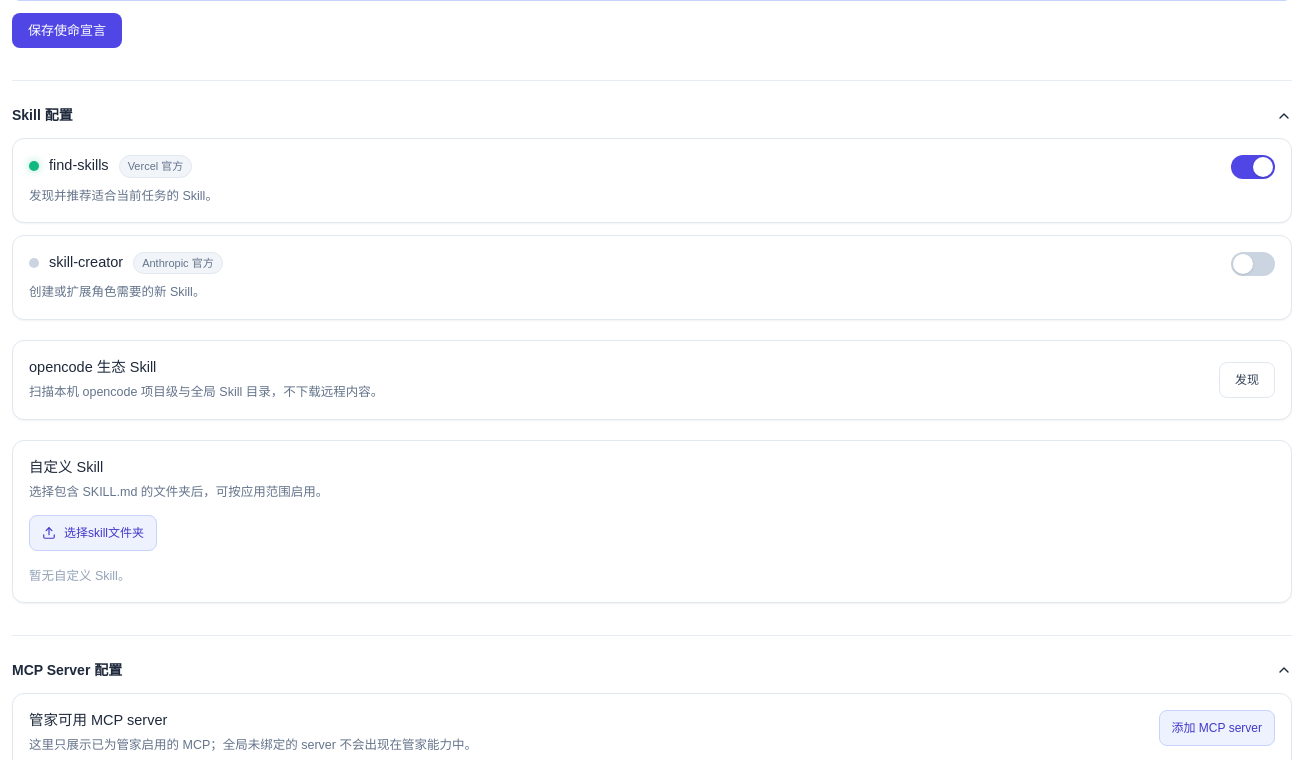
Test: ButlerSettingsContent › 发现 opencode Skill 失败时展示安全的后端校验提示
(page scrolled)
Click the button with aria-label "发现 opencode Skill" at (1247, 380), box top-left (1219, 362), bottom-right (1275, 398)
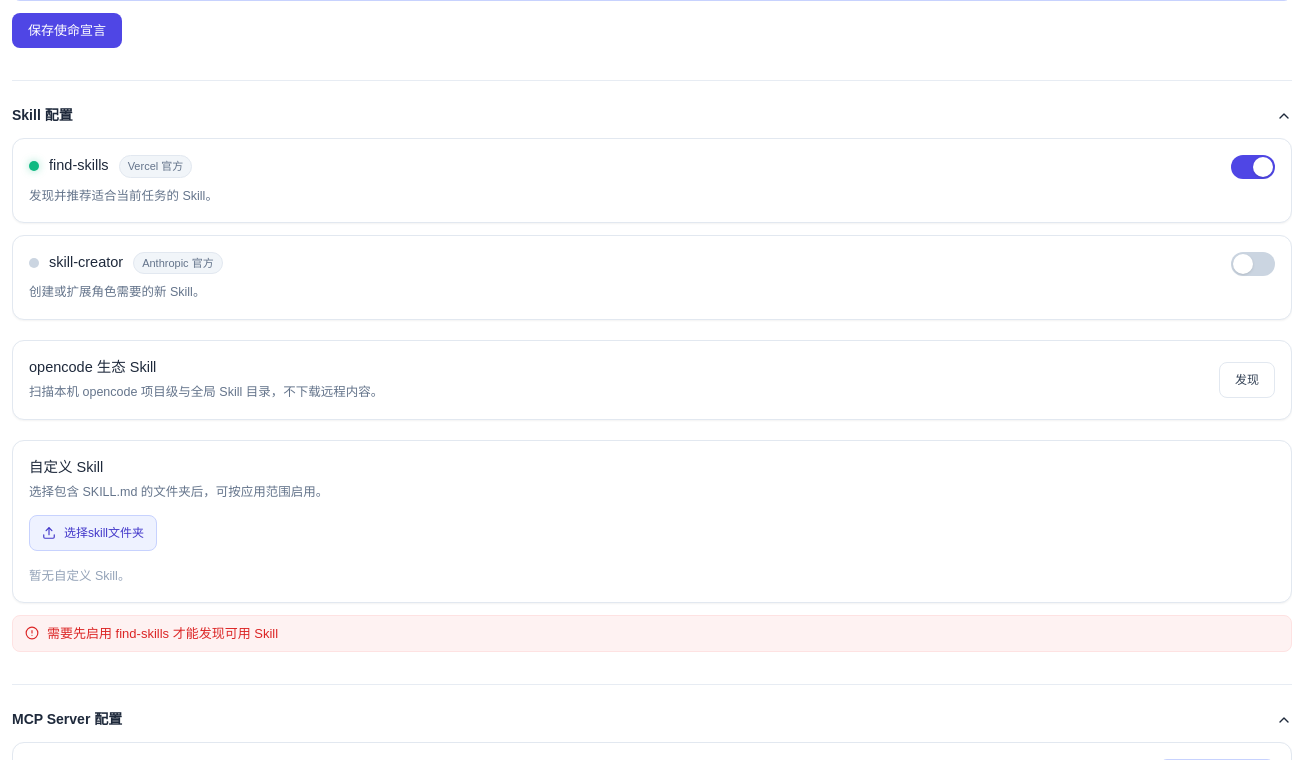
Expected: the text "需要先启用 find-skills 才能发现可用 Skill" is shown, top-left (47, 626), bottom-right (278, 640)
